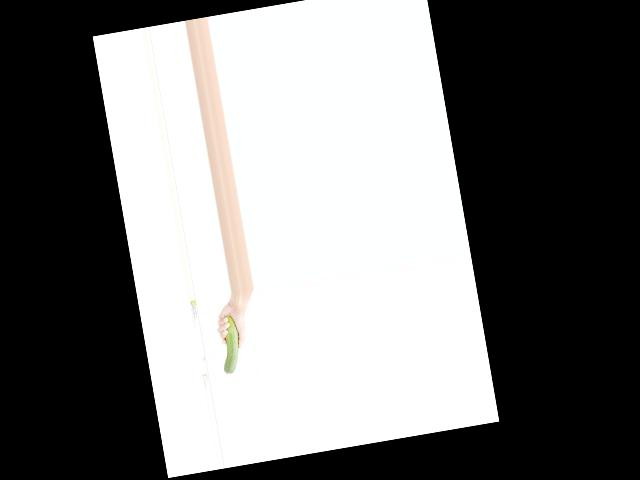cucumber: (215, 315, 243, 375)
